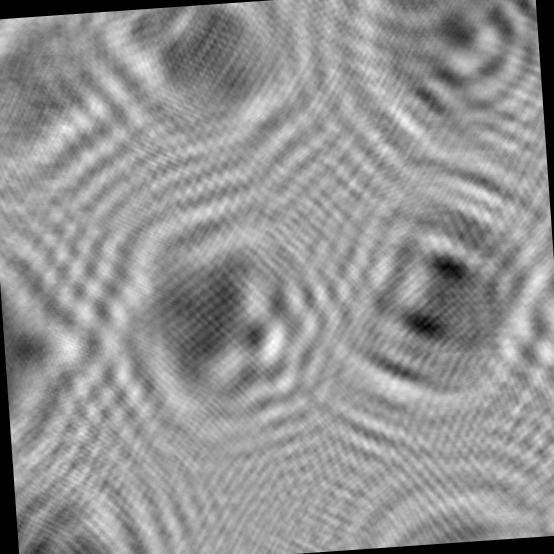E: (294, 155, 554, 444)
I: (0, 8, 161, 203)
K: (92, 204, 351, 471)
T: (104, 0, 333, 180)
U: (326, 0, 546, 167)
X: (0, 226, 122, 469)
Z: (12, 447, 182, 554)
